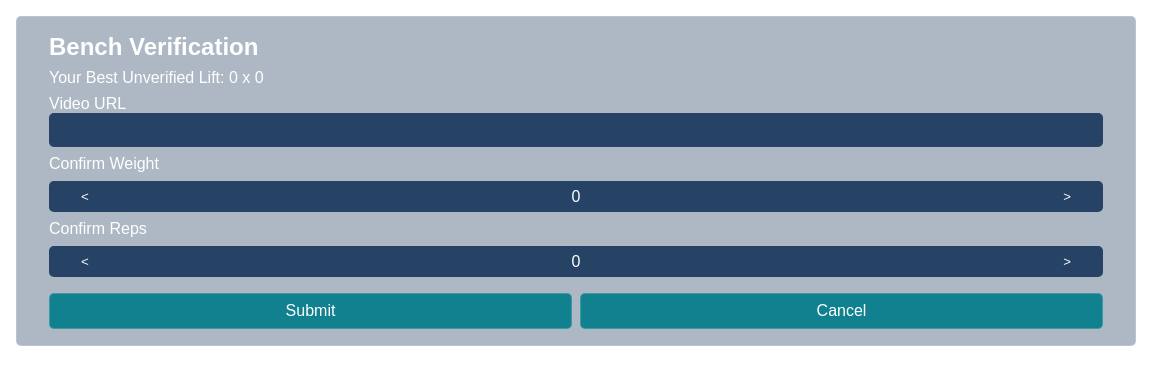
Test: VerifyForm › should render verify link after user types video url
This screenshot has width=1152, height=389.
In the field labelled "Video URL": coordinates (576, 130) [49,113,1103,147], type "test.com"
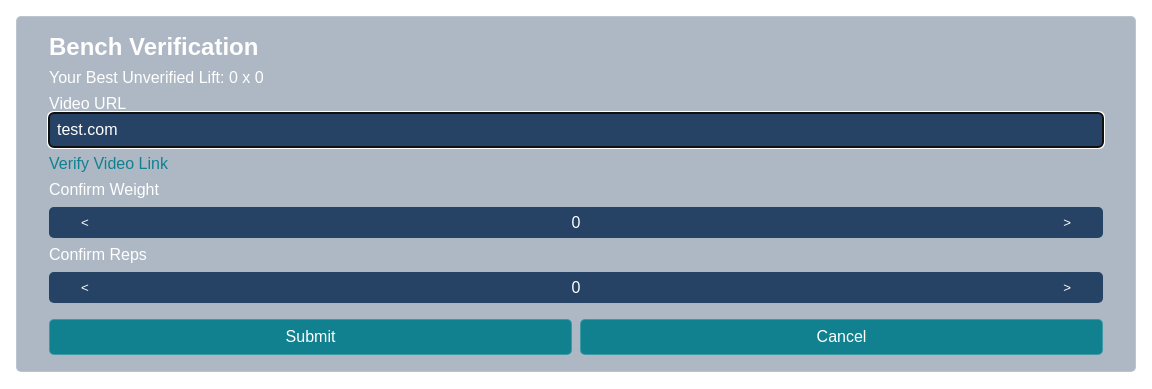
Expected: the link "Verify Video Link" is shown, [49,155,168,172]
